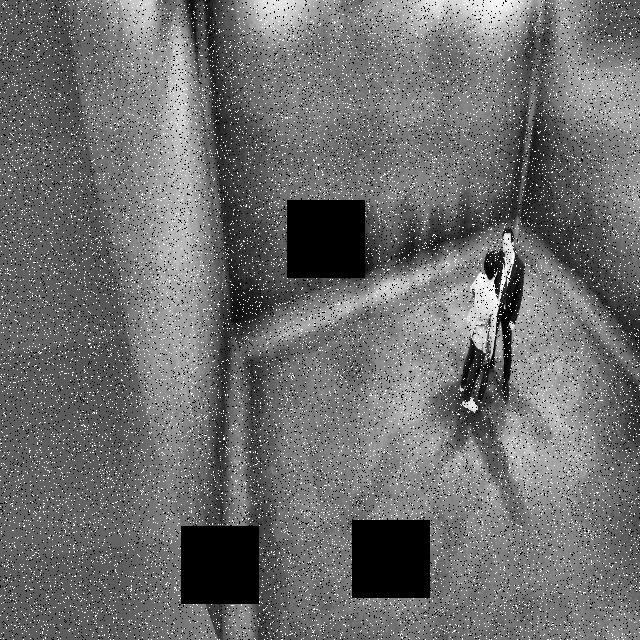assult: (462, 207, 523, 420)
